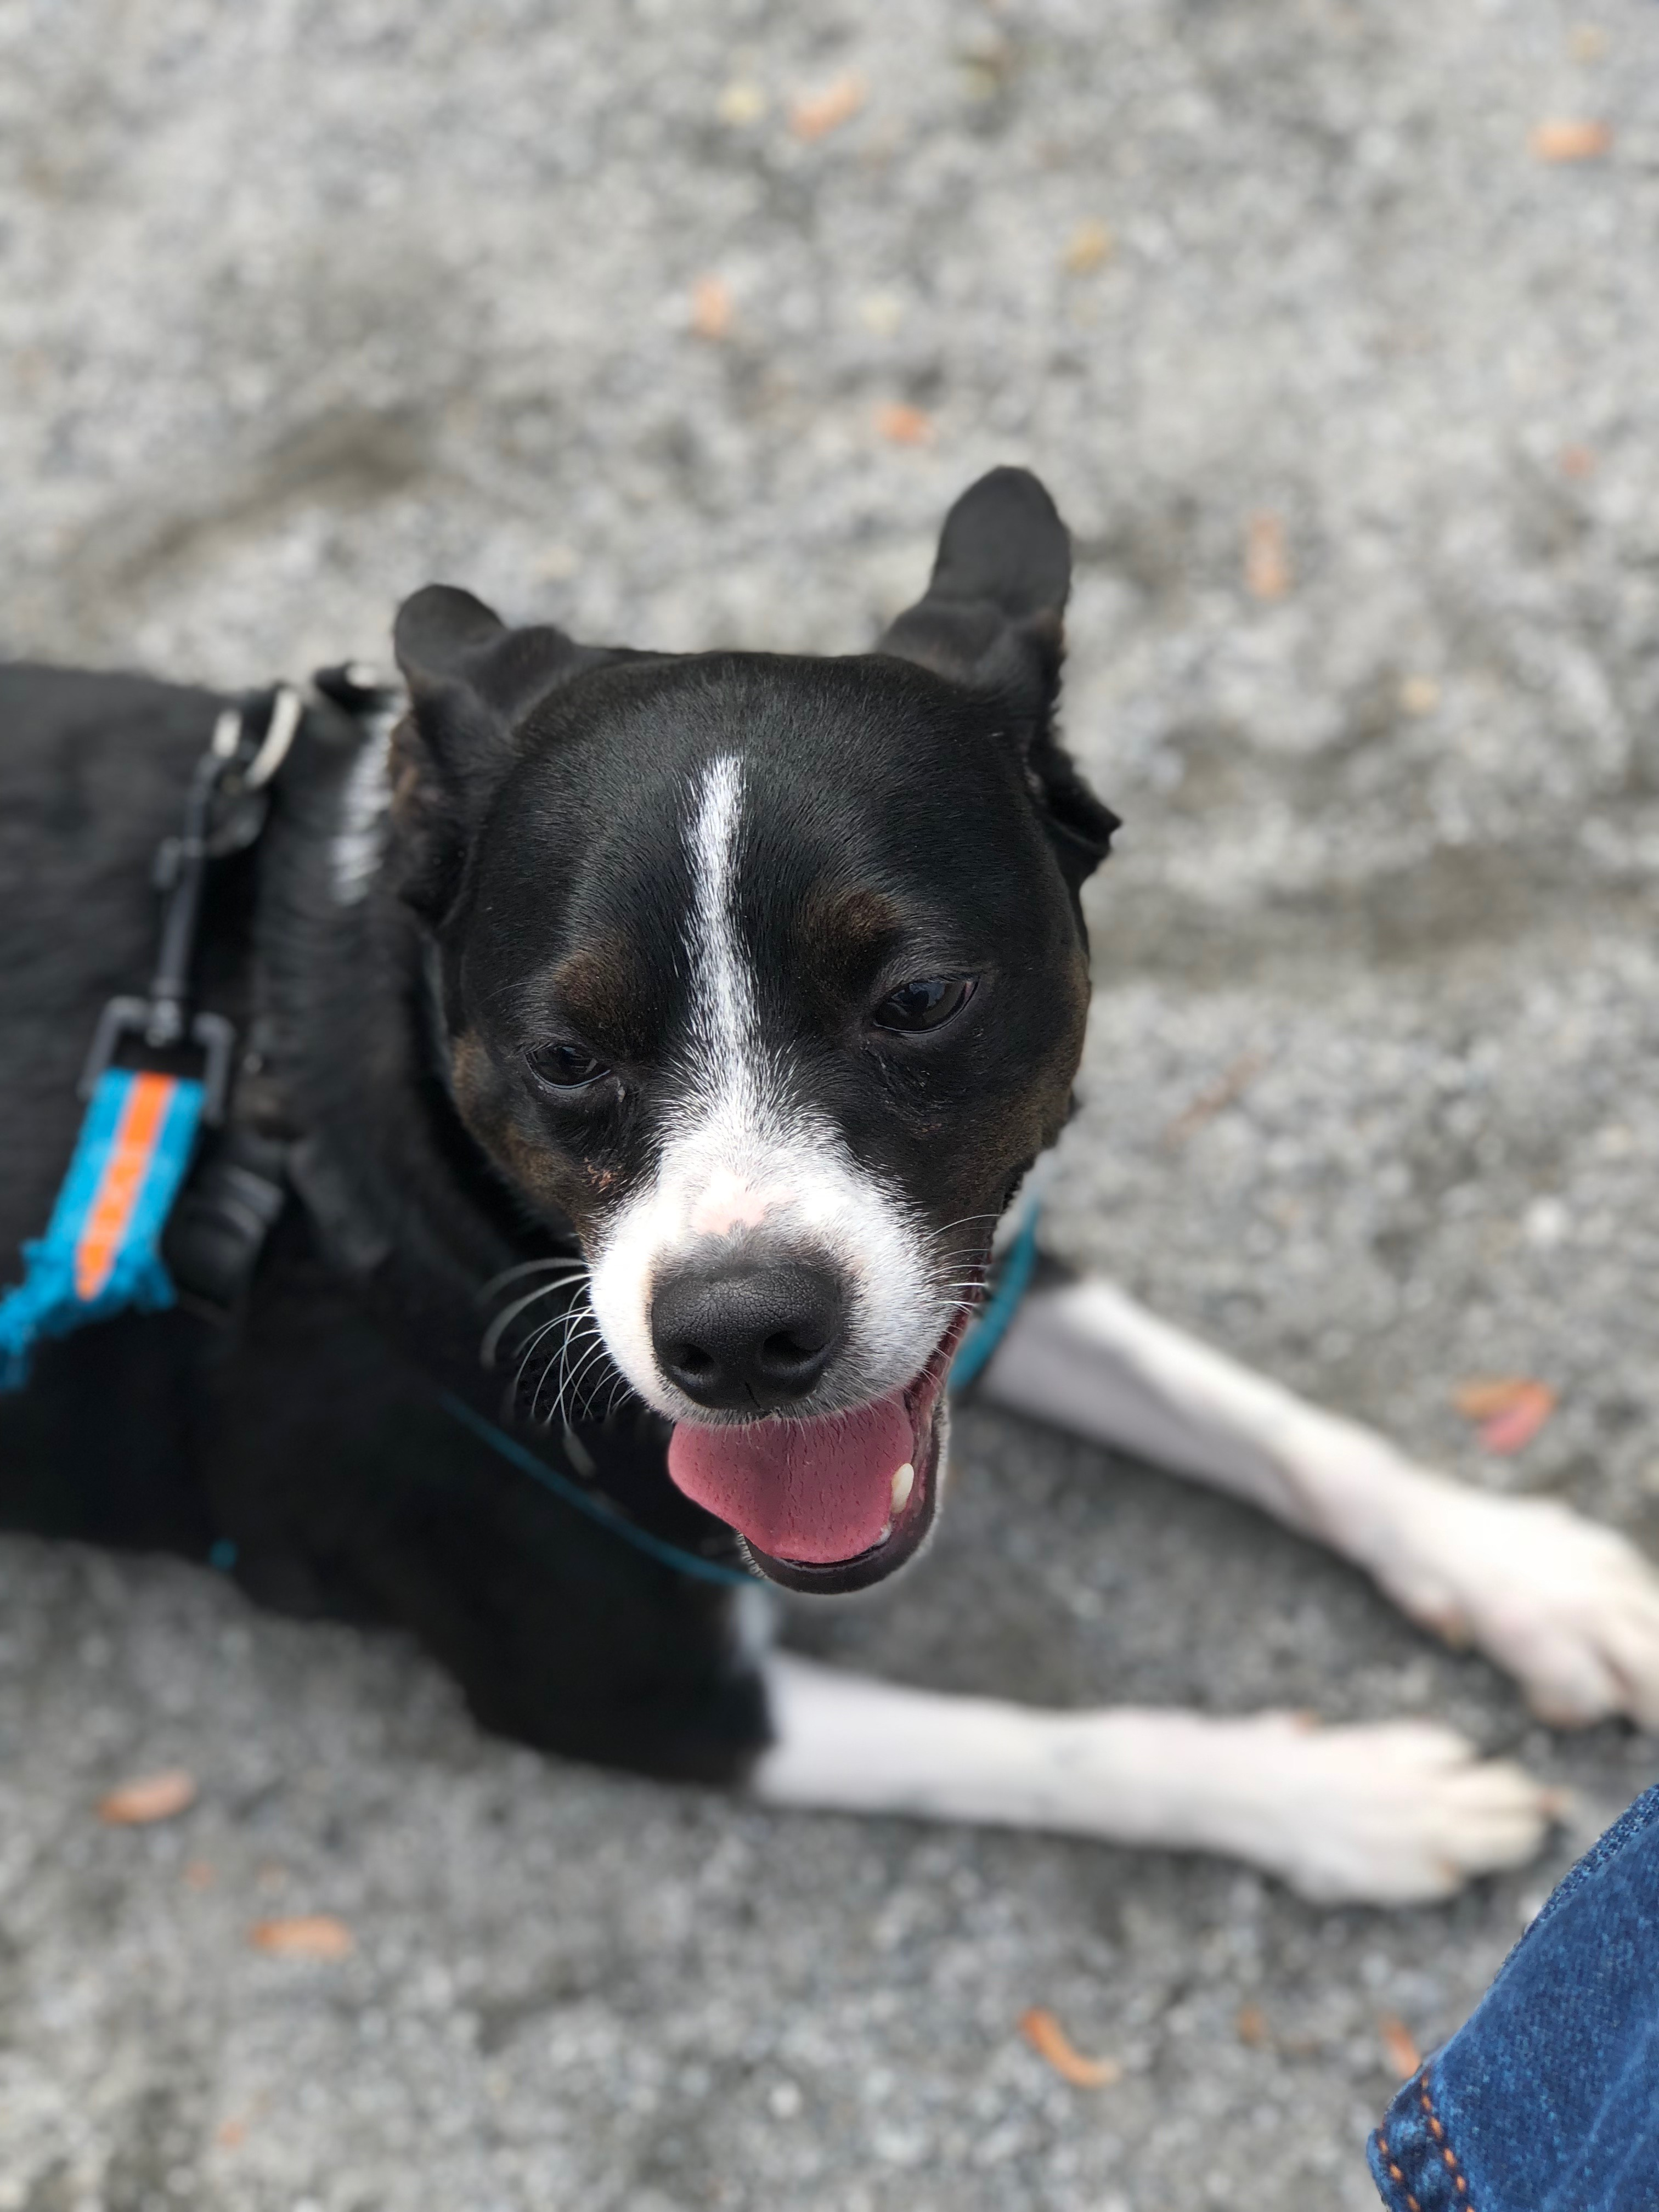Harley: (0, 456, 1624, 1998)
